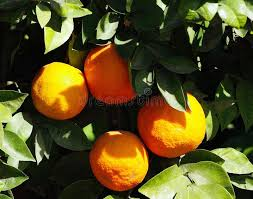orange: (135, 97, 209, 156), (82, 41, 149, 106), (87, 127, 151, 191), (29, 61, 88, 118)
